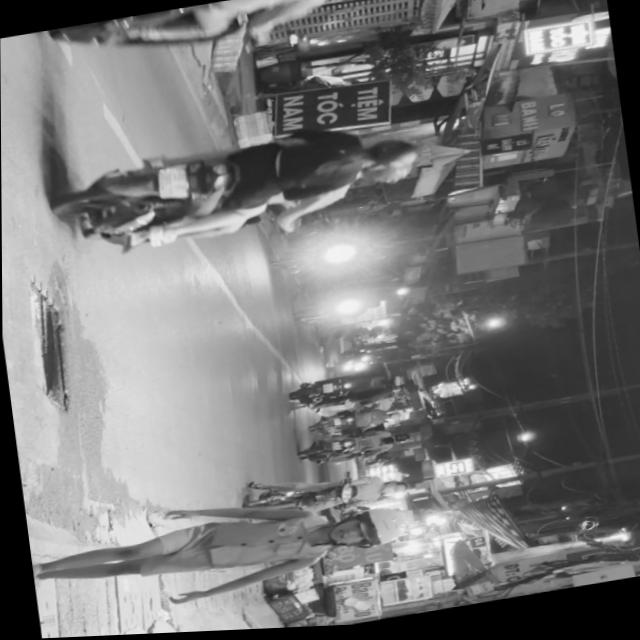helmet: (361, 134, 421, 173), (359, 160, 417, 189)
licenseplate: (50, 107, 430, 264), (23, 0, 405, 75)
nohelmet: (157, 164, 190, 199)
